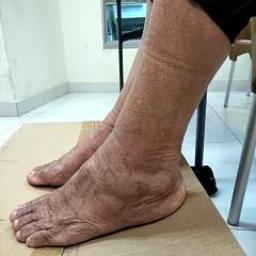Lateral View -Left Foot-: (4, 125, 198, 253)
